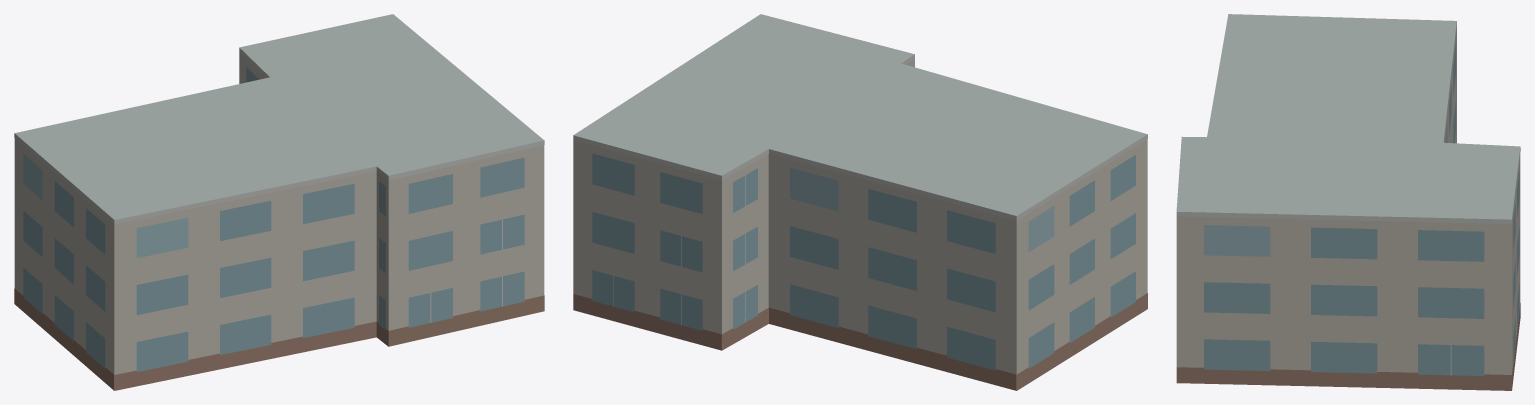
Rendered from survey-upis-32568815.glb.
3 views of the same model, side by side, from view 1: azimuth 30°, elevation 25°; view 2: azimuth 150°, elevation 25°; view 3: azimuth 270°, elevation 25° (orthographic). The views are drawn at different scales.
Parts seen in each view (by area): view 1: survey-upis-32568815.tmp; view 2: survey-upis-32568815.tmp; view 3: survey-upis-32568815.tmp.
Part boxes in pixels (x1,y1,x2,y2): survey-upis-32568815.tmp: (14,14,544,390); survey-upis-32568815.tmp: (573,14,1147,390); survey-upis-32568815.tmp: (1176,14,1520,390).
Bounding box in the file's own units: 23.56 × 9.15 × 16.66.
